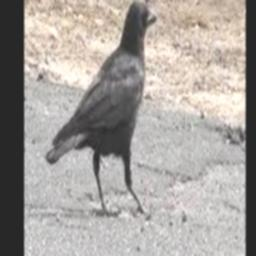Crow: (45, 0, 157, 220)
